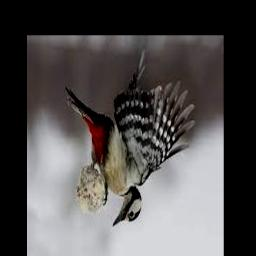Woodpecker: (65, 51, 195, 226)
